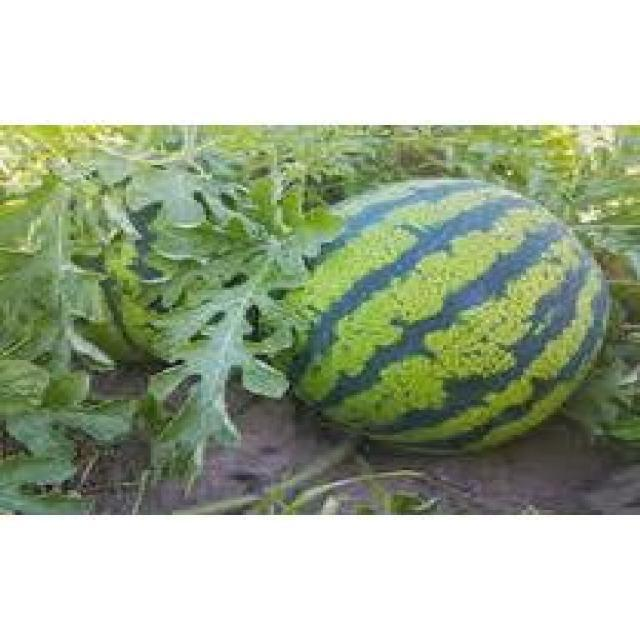watermelon: (291, 180, 608, 445)
